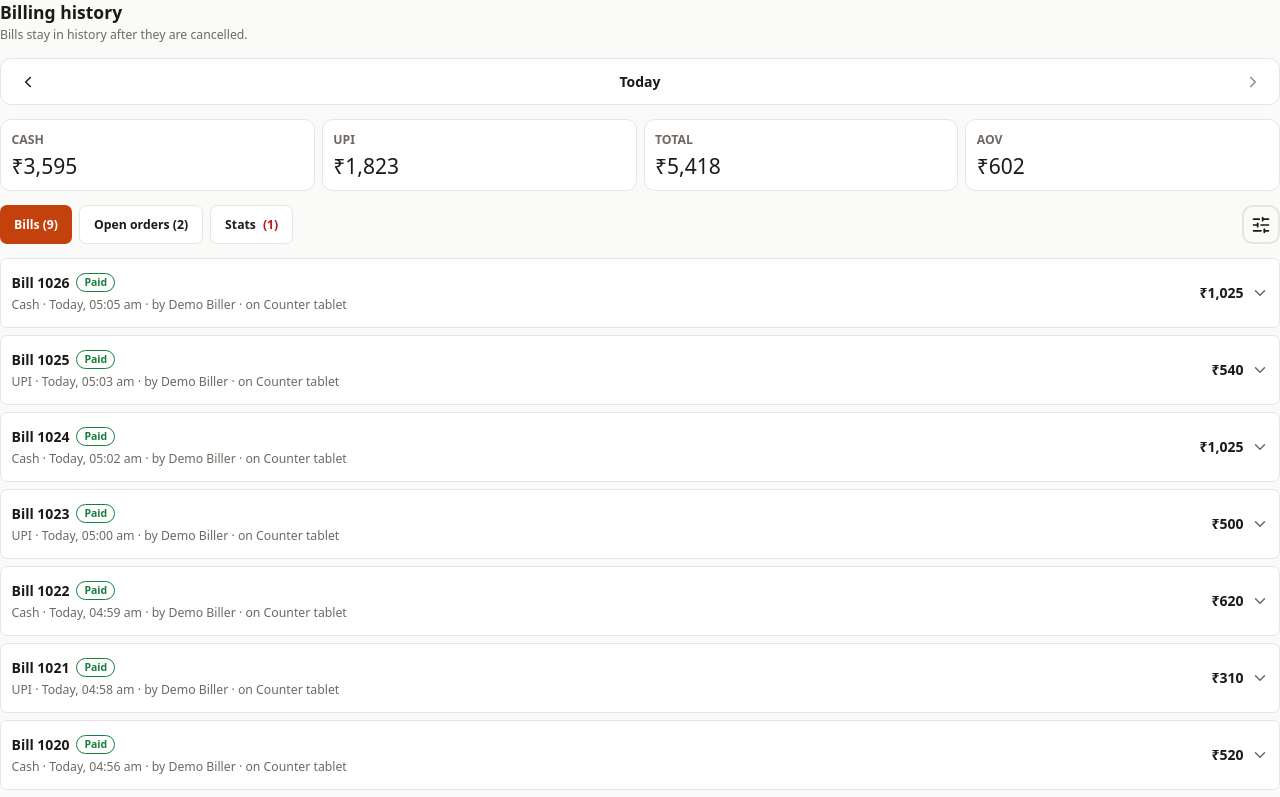
Test: uses the same focused reason dialog when cancelling an open order
This screenshot has width=1280, height=797.
Click the tab "Open orders (2)" at (141, 225), box x1=79 y1=205 x2=203 y2=244
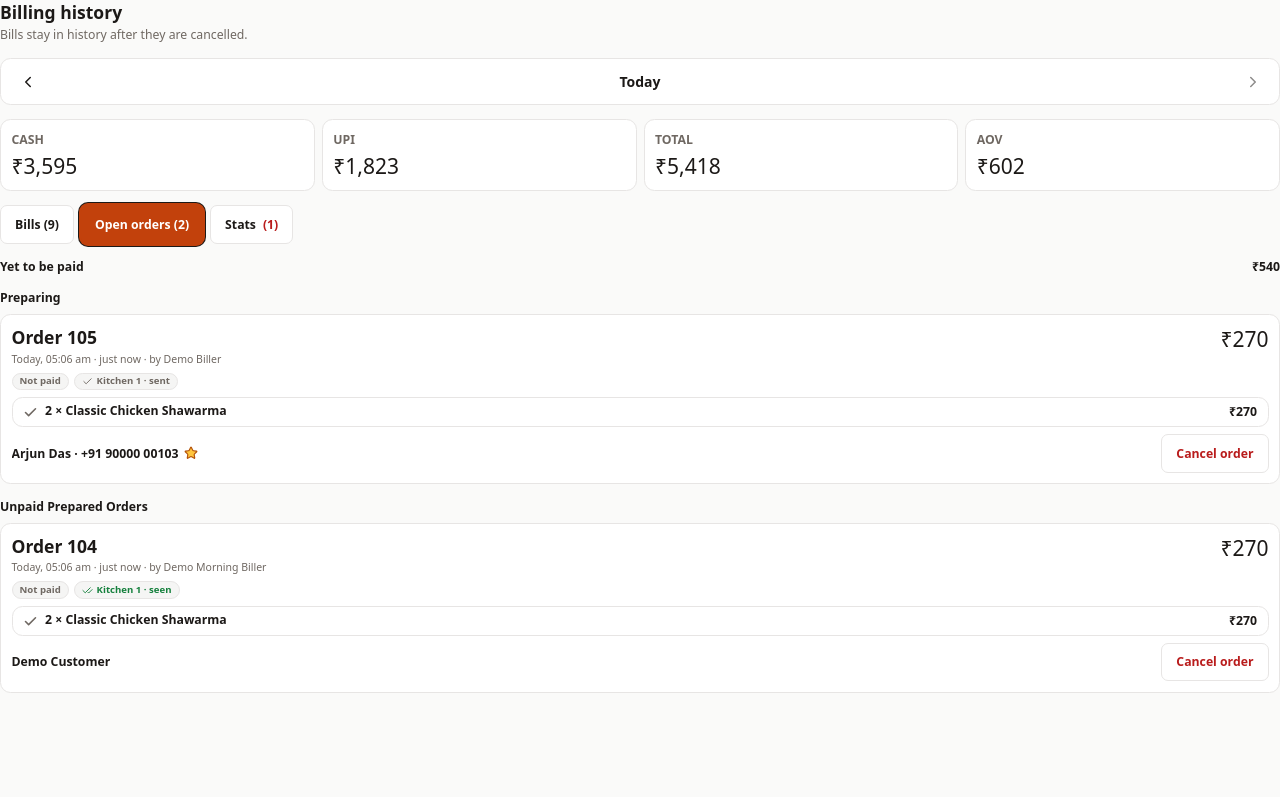
Click the button with aria-label "Cancel order 104" at (1215, 662), box x1=1161 y1=643 x2=1268 y2=681
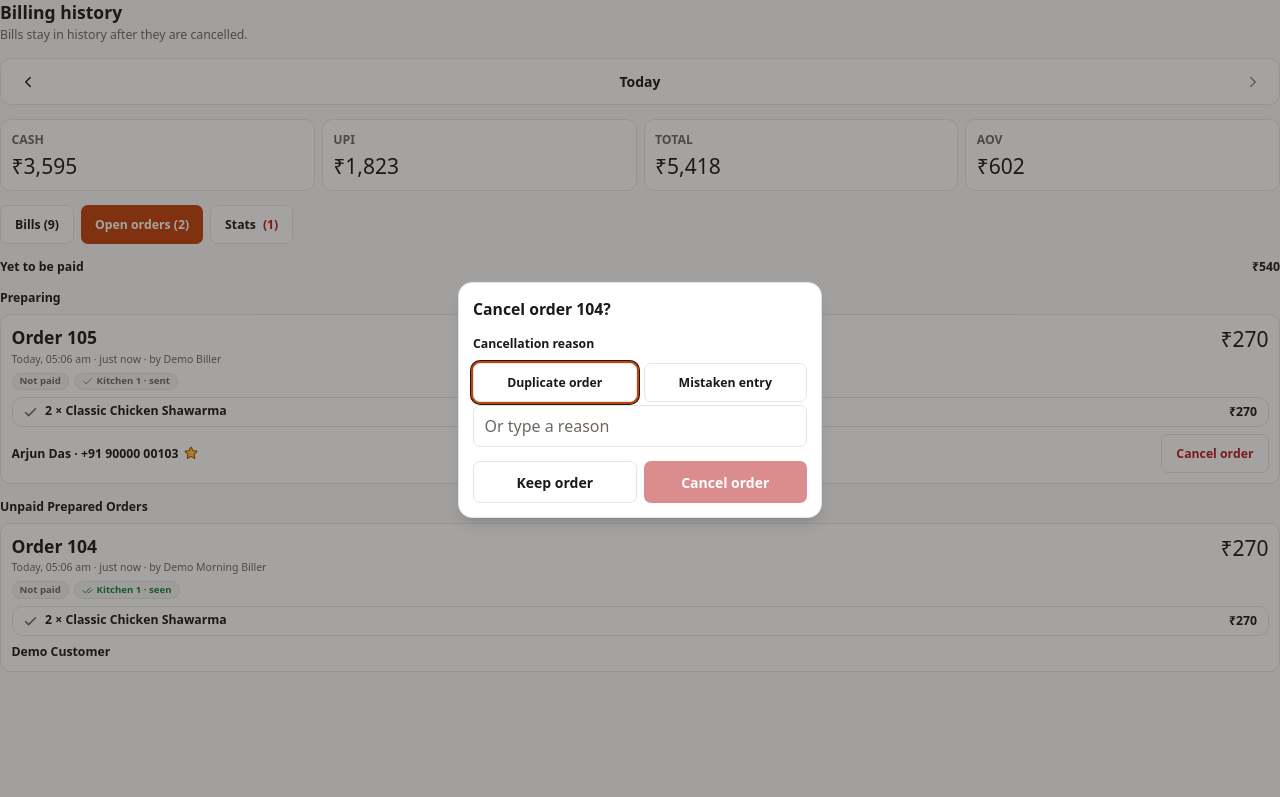
Now the dialog "Cancel order 104" is shown, box x1=458 y1=282 x2=822 y2=518
Now the element named "Common cancellation reasons" is shown, box x1=473 y1=363 x2=807 y2=402
Now the button "Cancel order" is disabled, box x1=644 y1=461 x2=807 y2=503
Click the button "Duplicate order" at (555, 383), box x1=473 y1=363 x2=636 y2=402
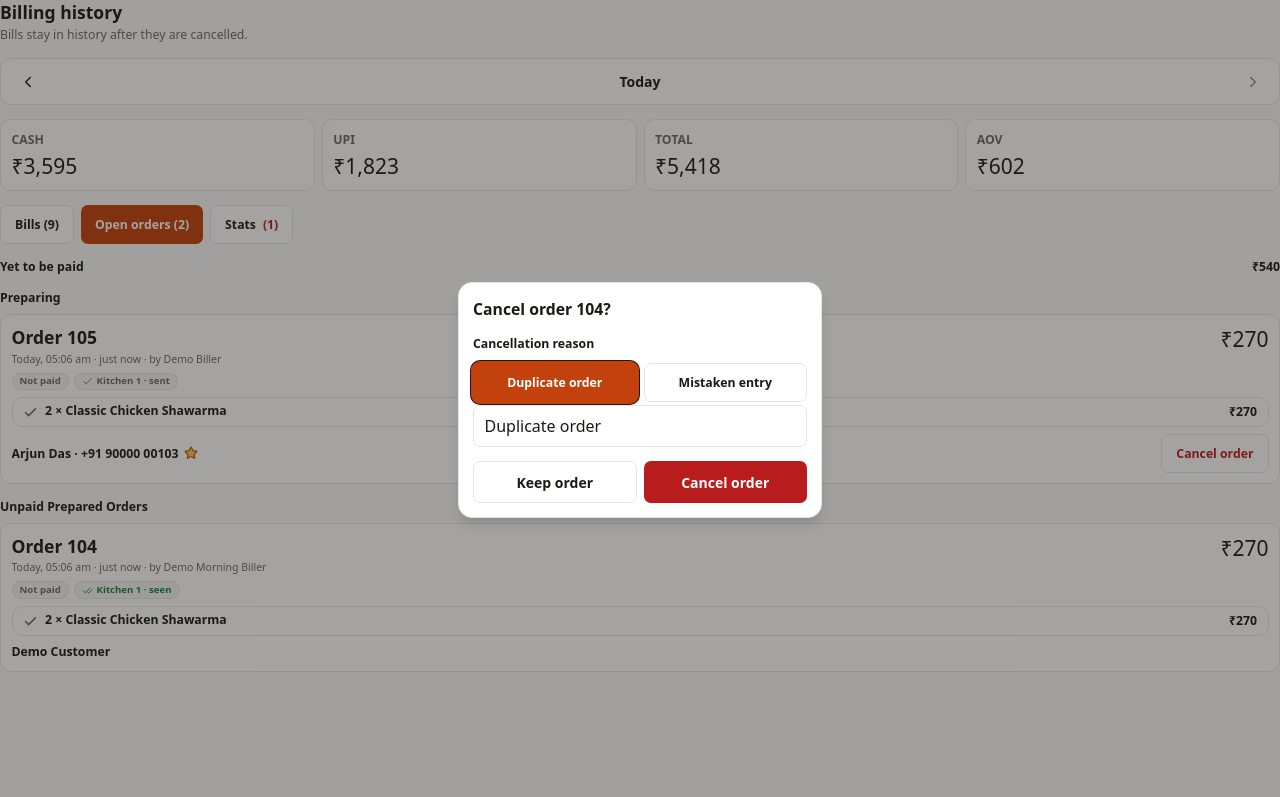
Now the field named "Cancellation reason for order 104" holds "Duplicate order", box x1=473 y1=405 x2=807 y2=447
Now the button "Cancel order" is enabled, box x1=644 y1=461 x2=807 y2=503
